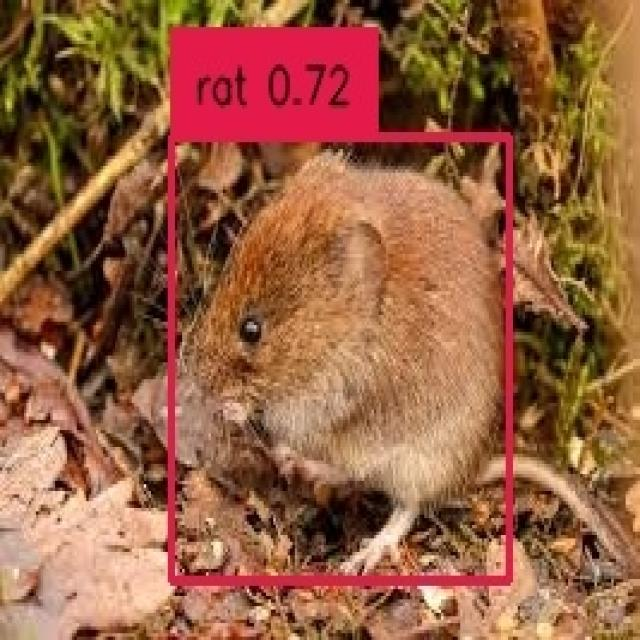rat: (168, 132, 506, 576)
